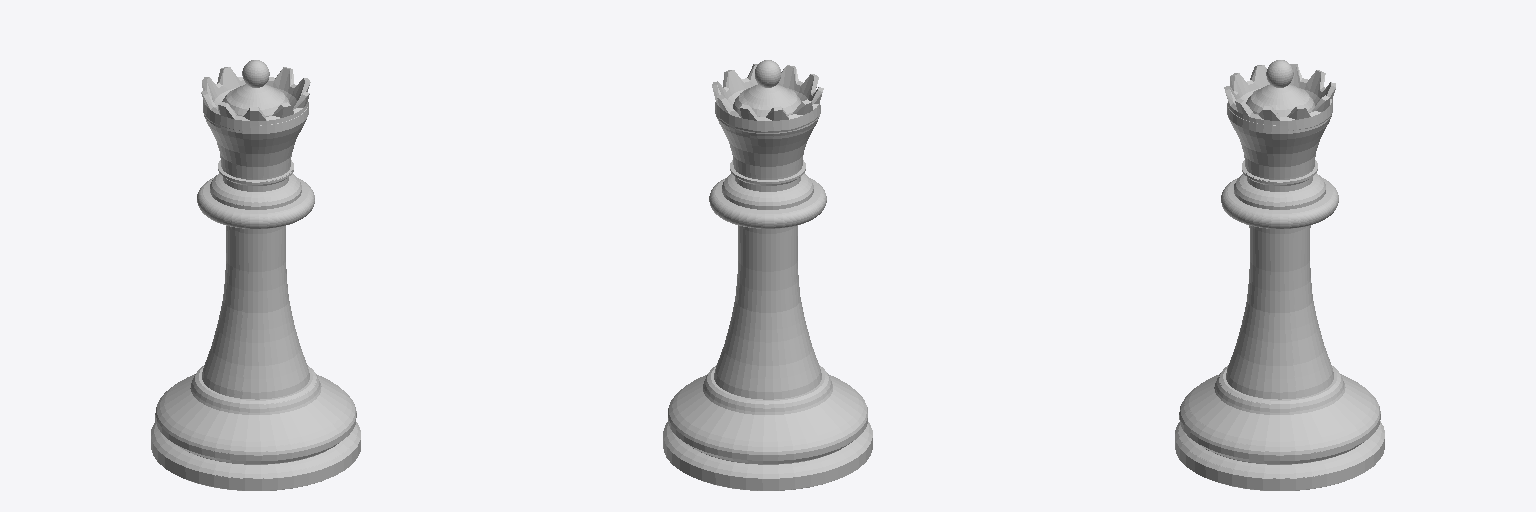
File: queen.obj
3 views of the same model, side by side, from view 1: azimuth 30°, elevation 25°; view 2: azimuth 150°, elevation 25°; view 3: azimuth 270°, elevation 25° (orthographic).
Parts seen in each view (by area): view 1: Plane_Plane.001, Plane.001_Plane.002; view 2: Plane_Plane.001, Plane.001_Plane.002; view 3: Plane_Plane.001, Plane.001_Plane.002.
Part boxes in pixels (x1,y1,x2,y2): Plane_Plane.001: (151,60,357,482); Plane.001_Plane.002: (160,64,360,490); Plane_Plane.001: (663,60,872,490); Plane.001_Plane.002: (666,82,866,490); Plane_Plane.001: (1178,60,1384,485); Plane.001_Plane.002: (1175,64,1375,490).
Size of the model in its own units: 1.58 by 3.24 by 1.58.